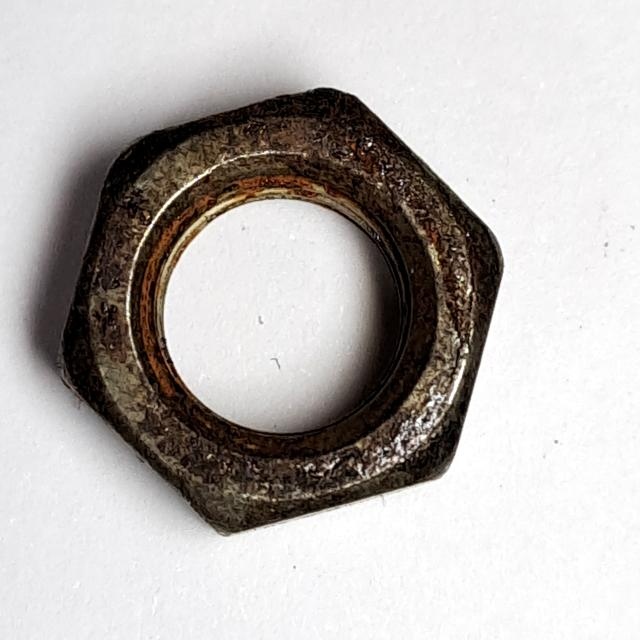Rust: (47, 70, 518, 547)
